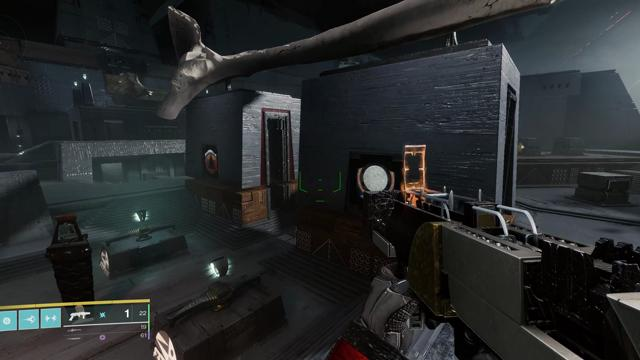pyramid: (205, 149, 218, 174)
traveler: (356, 162, 396, 199)
